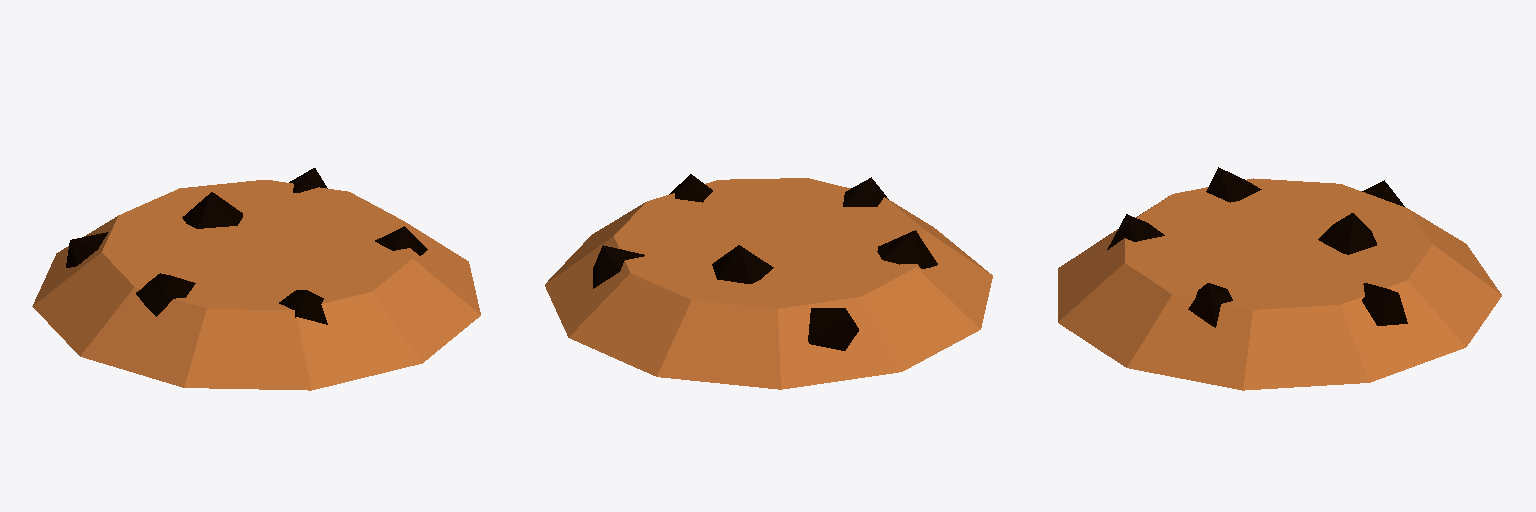
File: cookie.obj
The picture shows the model from 3 angles: view 1: azimuth 30°, elevation 25°; view 2: azimuth 150°, elevation 25°; view 3: azimuth 270°, elevation 25°; orthographic projection.
Visible parts, largest first — view 1: Cylinder; view 2: Cylinder; view 3: Cylinder.
Part boxes in pixels (x1,y1,x2,y2): Cylinder: (32,168,480,390); Cylinder: (545,174,992,389); Cylinder: (1058,167,1501,390).
Size of the model in its own units: 0.0792 by 0.0154 by 0.0784.